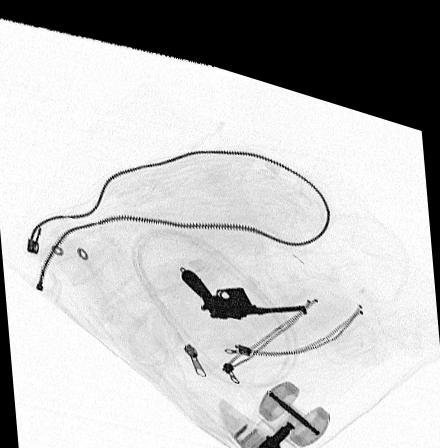Gun: (180, 258, 308, 306)
